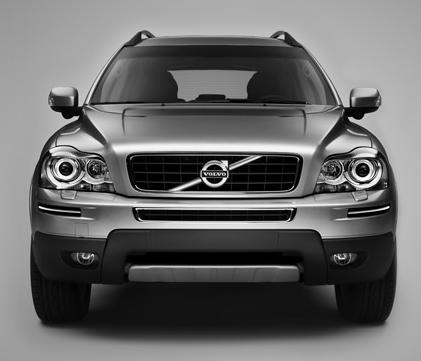car: (29, 32, 399, 330)
